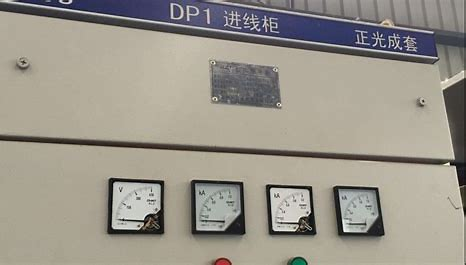pointer: (193, 180, 243, 232), (110, 181, 162, 230), (336, 186, 381, 233), (270, 185, 314, 233)
